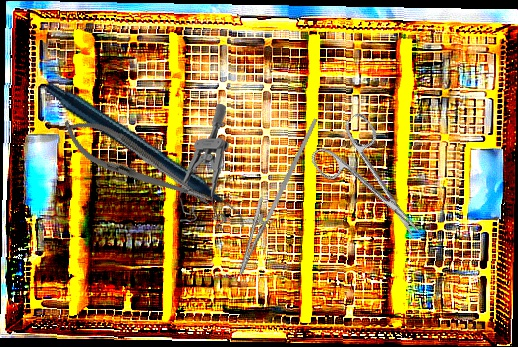Handpiece: (41, 35, 249, 277)
Iris Scissors: (305, 110, 443, 260)
Needle Holder: (54, 107, 220, 221), (225, 106, 319, 283)
Speculum: (172, 103, 235, 235)
